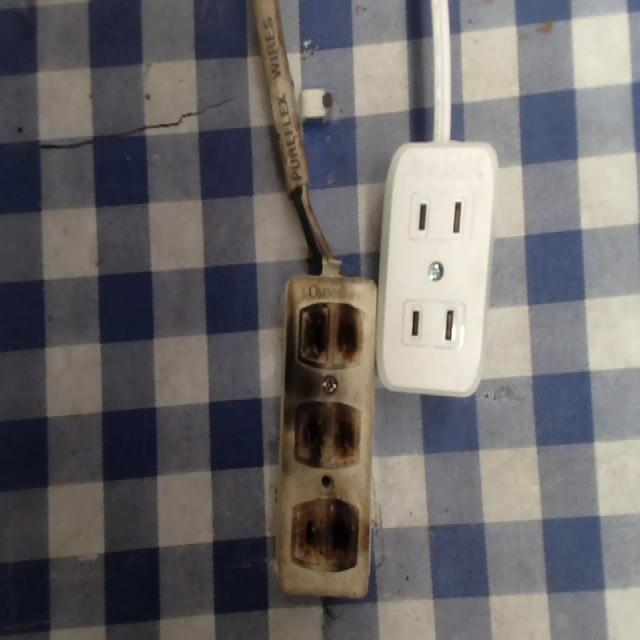-: (295, 392, 373, 481), (287, 493, 361, 578), (299, 292, 369, 381)
